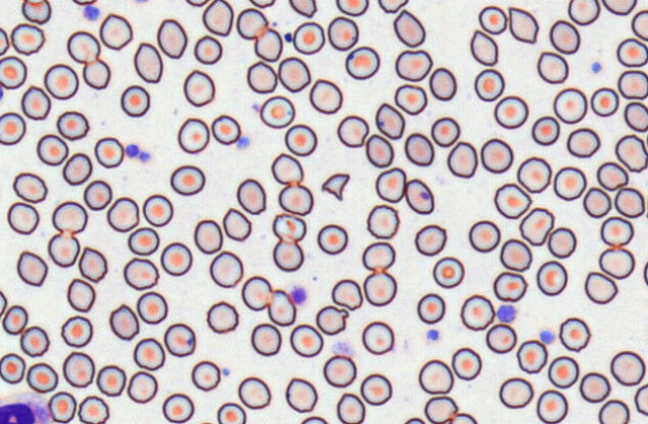GRAN: (0, 394, 53, 424)
PLT: (289, 286, 309, 306), (498, 304, 517, 324), (80, 3, 99, 22), (425, 329, 441, 345), (539, 329, 555, 345), (124, 143, 139, 158), (237, 137, 254, 150), (137, 151, 151, 164), (592, 61, 603, 73), (221, 367, 231, 378)
RBC: (493, 182, 531, 219), (519, 207, 554, 245), (516, 156, 551, 193), (43, 63, 78, 99), (209, 250, 243, 287), (99, 13, 133, 50), (553, 87, 587, 124), (615, 133, 647, 172), (156, 18, 187, 58), (133, 42, 163, 83), (418, 359, 453, 394), (610, 350, 645, 385), (51, 200, 87, 234), (460, 294, 494, 330), (598, 246, 635, 279), (393, 9, 425, 47), (47, 231, 80, 267), (123, 257, 159, 290), (363, 270, 396, 306), (106, 196, 139, 232), (277, 56, 310, 92), (259, 95, 295, 128), (309, 78, 342, 114), (183, 69, 215, 106), (395, 49, 432, 81), (446, 140, 477, 178), (289, 323, 323, 357), (345, 45, 379, 79), (278, 182, 313, 215), (10, 22, 45, 55), (493, 95, 528, 128), (366, 204, 399, 239), (480, 138, 513, 173), (62, 351, 94, 387), (16, 250, 48, 286), (177, 117, 209, 153), (375, 166, 406, 203), (66, 30, 100, 63), (584, 271, 618, 304), (237, 376, 271, 409), (361, 320, 394, 354), (553, 166, 586, 200), (285, 377, 317, 412), (160, 241, 192, 276), (202, 0, 233, 36), (536, 260, 567, 296), (508, 6, 538, 43), (267, 288, 296, 326), (323, 354, 356, 387), (499, 238, 532, 271), (292, 21, 325, 54), (284, 123, 317, 156), (336, 114, 369, 147), (536, 389, 568, 423), (558, 317, 590, 351), (163, 322, 195, 356), (498, 377, 533, 408), (241, 275, 272, 310), (12, 172, 47, 203), (549, 19, 580, 54), (170, 164, 205, 195), (109, 304, 139, 340), (236, 178, 266, 214), (404, 178, 434, 214), (469, 29, 498, 66), (375, 102, 404, 139), (547, 355, 579, 388), (270, 152, 303, 184), (133, 337, 165, 370), (206, 300, 238, 333), (7, 201, 39, 234), (468, 219, 500, 252), (394, 83, 427, 115), (516, 339, 547, 373), (250, 322, 281, 356), (493, 271, 527, 302), (327, 16, 358, 50), (253, 26, 282, 62), (78, 246, 107, 282), (60, 315, 92, 347), (331, 278, 363, 310), (360, 373, 392, 405), (36, 133, 68, 165), (432, 256, 464, 288), (236, 7, 268, 39), (536, 51, 568, 83), (315, 304, 348, 335), (136, 291, 167, 324), (142, 193, 173, 226), (246, 60, 277, 93), (473, 68, 504, 101), (272, 212, 306, 242), (361, 241, 395, 271), (404, 132, 434, 166), (566, 127, 600, 157), (193, 219, 222, 254), (21, 85, 50, 120), (272, 239, 303, 271), (26, 362, 58, 393), (162, 392, 194, 423), (614, 186, 645, 218), (414, 224, 446, 255), (127, 370, 157, 403), (451, 347, 481, 380), (62, 152, 92, 185), (600, 216, 633, 246), (56, 110, 89, 140), (120, 84, 150, 117), (66, 278, 95, 312), (222, 207, 251, 241), (579, 371, 610, 402), (317, 223, 348, 254), (96, 364, 126, 396), (19, 325, 49, 357), (596, 161, 628, 191), (94, 136, 124, 168), (365, 133, 393, 167), (485, 323, 516, 353), (616, 37, 647, 67), (430, 116, 460, 147), (47, 391, 76, 423), (127, 226, 159, 255), (582, 186, 611, 218), (416, 292, 445, 324), (547, 226, 576, 258), (424, 395, 457, 423), (617, 69, 647, 99), (191, 360, 220, 391), (336, 392, 365, 423), (83, 179, 112, 210), (211, 114, 240, 145), (77, 395, 109, 423), (429, 67, 456, 100), (0, 111, 26, 145), (0, 55, 26, 89), (193, 34, 222, 64), (531, 115, 560, 145), (590, 87, 619, 117), (82, 58, 110, 89), (478, 5, 507, 34), (567, 0, 600, 25), (0, 352, 25, 384), (2, 304, 28, 334), (598, 399, 629, 423), (623, 101, 647, 132), (21, 0, 51, 24), (216, 402, 246, 423), (335, 0, 368, 16), (602, 0, 637, 15), (631, 9, 647, 41), (288, 0, 317, 17), (634, 383, 647, 416), (377, 0, 408, 13), (450, 412, 477, 423), (0, 26, 9, 55), (300, 415, 328, 423), (249, 0, 275, 8), (0, 289, 7, 316), (185, 0, 209, 7), (403, 416, 425, 423), (71, 0, 97, 5), (643, 260, 648, 285), (194, 420, 215, 424), (132, 0, 149, 4)
Schistocyte: (320, 172, 354, 203)
